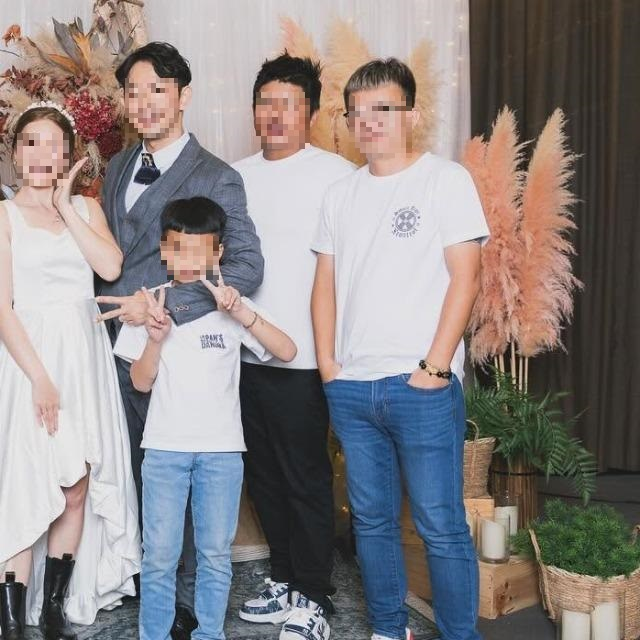NoHelmet: (338, 57, 423, 159), (114, 37, 196, 141), (243, 50, 327, 150)
NoVest: (315, 158, 487, 384)
